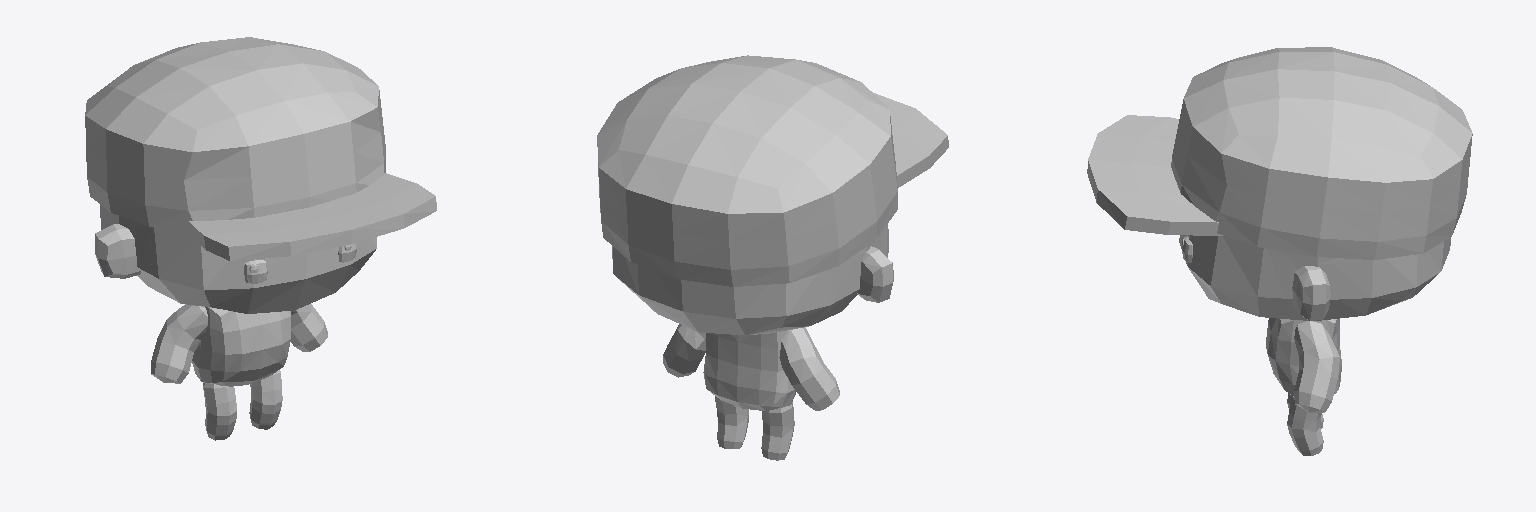
The model's file is idle_0034.obj.
3 renders of one model, left to right at view 1: azimuth 30°, elevation 25°; view 2: azimuth 150°, elevation 25°; view 3: azimuth 270°, elevation 25°, orthographic.
Visible parts, largest first — view 1: Object_41, Object_42, Object_36, Object_44, Object_38; view 2: Object_41, Object_44, Object_36, Object_42; view 3: Object_41, Object_36, Object_42, Object_44.
Part boxes in pixels (x1,y1,x2,y2): Object_41: (85,37,385,231); Object_42: (184,107,436,260); Object_36: (95,205,376,313); Object_44: (151,304,327,440); Object_38: (244,243,356,283); Object_41: (597,55,897,286); Object_44: (663,324,839,460); Object_36: (612,224,893,335); Object_42: (874,93,948,187); Object_41: (1184,47,1472,259); Object_36: (1179,235,1450,320); Object_42: (1087,99,1226,235); Object_44: (1266,318,1341,455).
Size of the model in its own units: 0.9691 by 1.22 by 1.14.